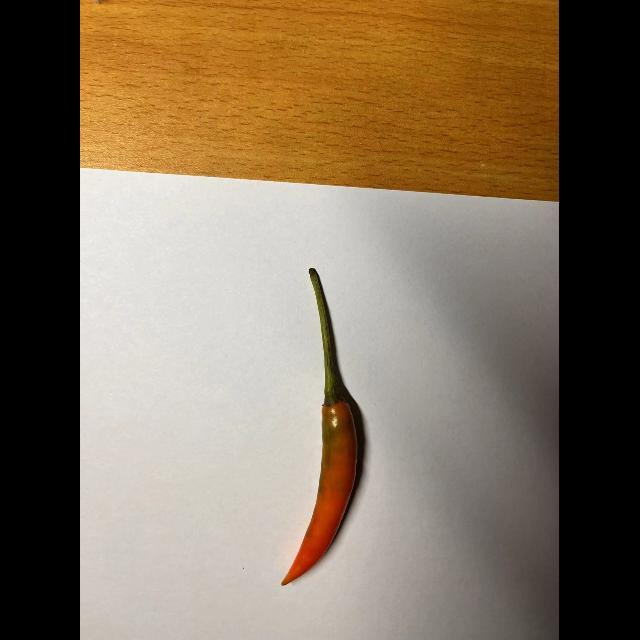chili_pepper: (258, 256, 375, 602)
